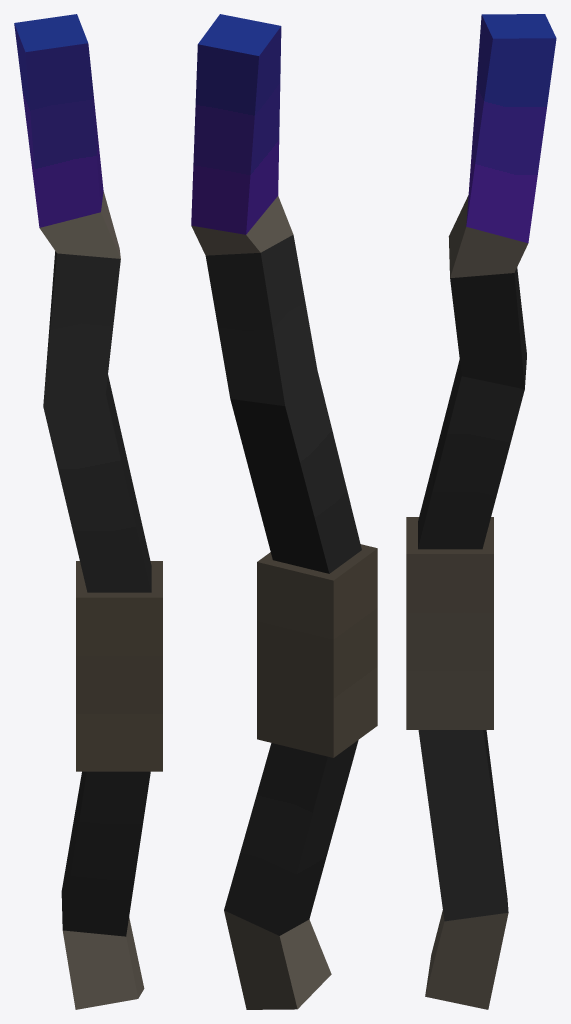
The model's file is manaweaving_improvised.obj.
3 renders of one model, left to right at view 1: azimuth 90°, elevation 25°; view 2: azimuth 150°, elevation 25°; view 3: azimuth 270°, elevation 25°, orthographic.
Parts seen in each view (by area): view 1: WAND_IMPROVISED_Cube.013; view 2: WAND_IMPROVISED_Cube.013; view 3: WAND_IMPROVISED_Cube.013.
Boxes of the visible parts, x1,y1,x2,y2 form: WAND_IMPROVISED_Cube.013: (14, 14, 162, 1009); WAND_IMPROVISED_Cube.013: (191, 14, 377, 1009); WAND_IMPROVISED_Cube.013: (406, 14, 556, 1009).
Bounding box in the file's own units: 0.1383 × 1.05 × 0.145.
